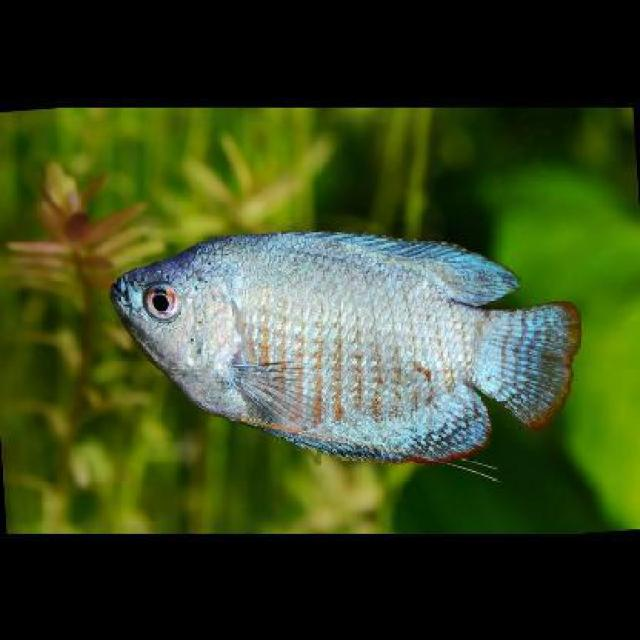Gourami: (101, 225, 584, 482)
